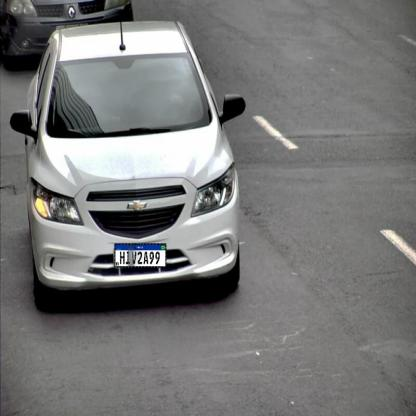PlacaM: (115, 243, 166, 268)
